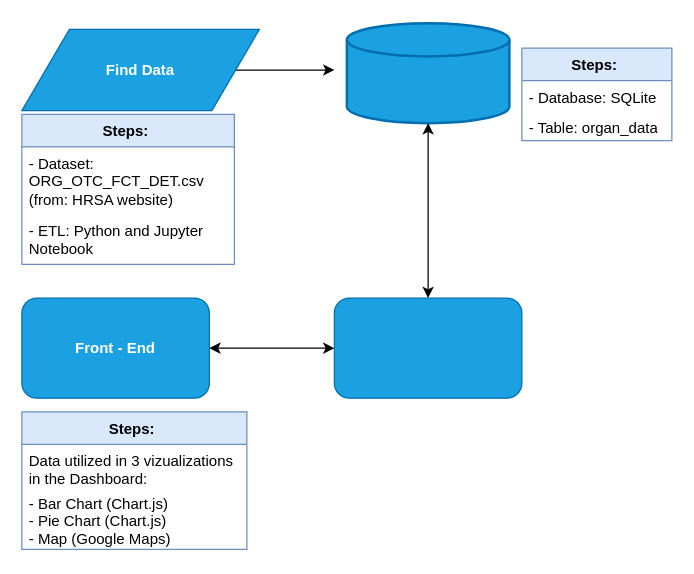
Some shapes in this 694 by 574 pixel diagram are drawn without their labels. The shapes that lost their labels are listed below. From the top down, each one's centre as x and y in pixels, then its label:
the point at 427,72: Database
the point at 427,347: Server : Python Flask
